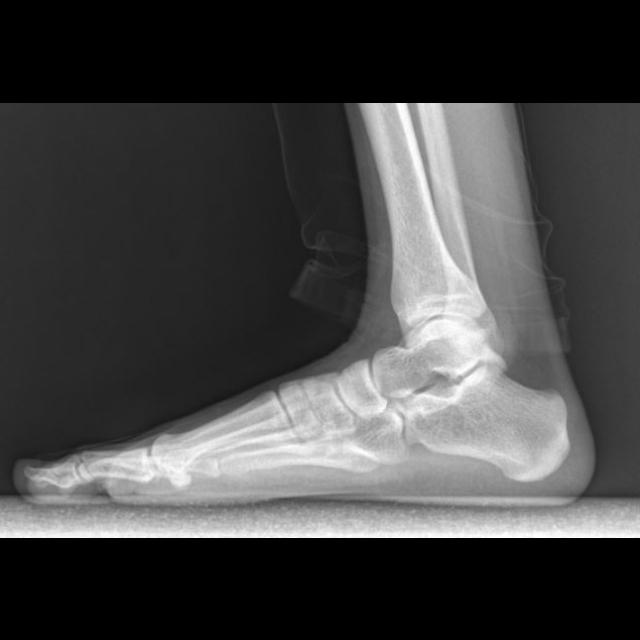a: (391, 360, 571, 484)
b: (335, 360, 388, 416)
c: (150, 392, 295, 476)
